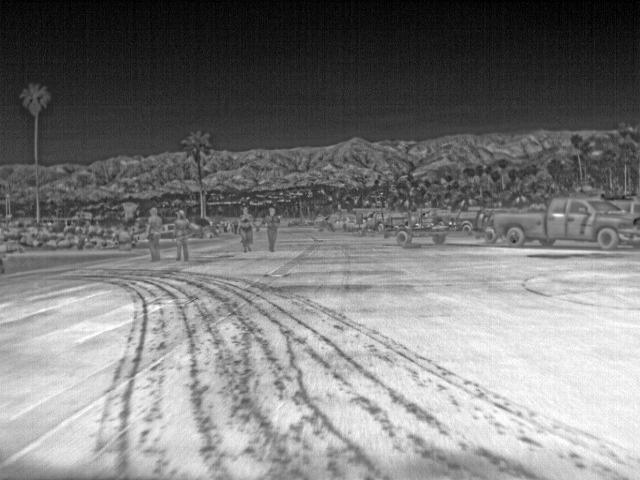car: (492, 197, 640, 251)
person: (171, 208, 195, 263), (143, 206, 166, 262), (264, 206, 282, 253), (237, 206, 255, 253)
